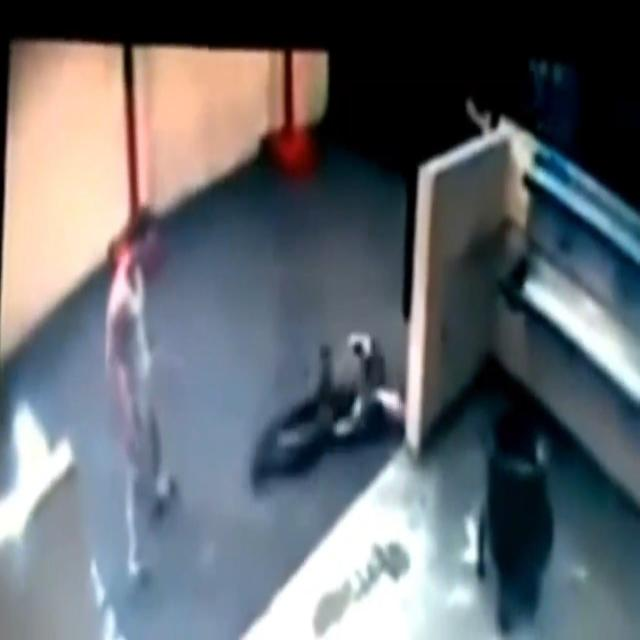fight: (250, 322, 408, 491)
